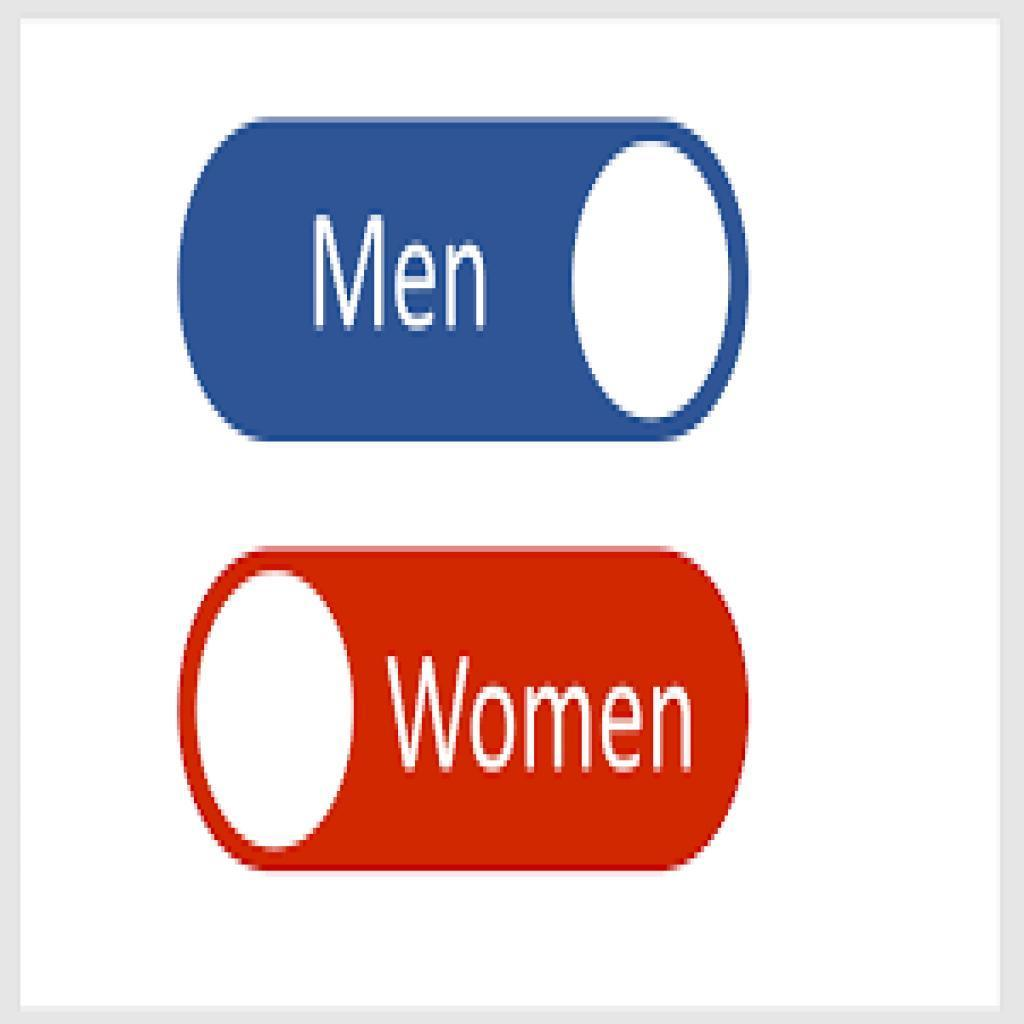switch: (180, 119, 752, 452), (178, 544, 751, 869)
